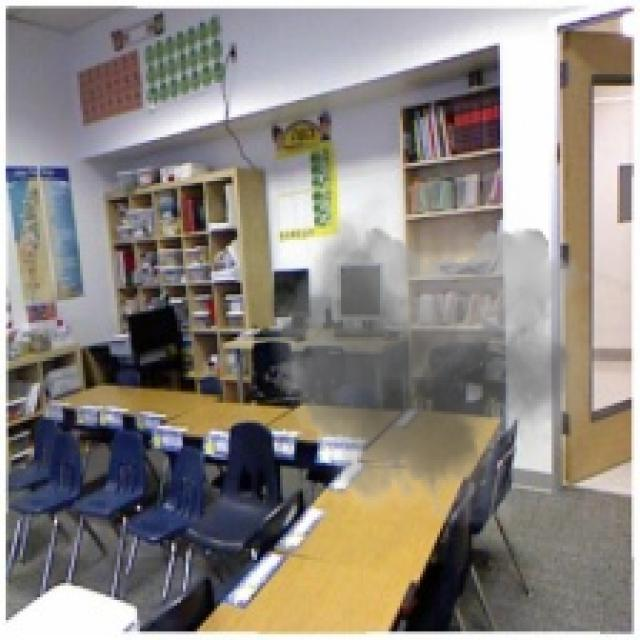Smoke: (251, 146, 603, 548)
